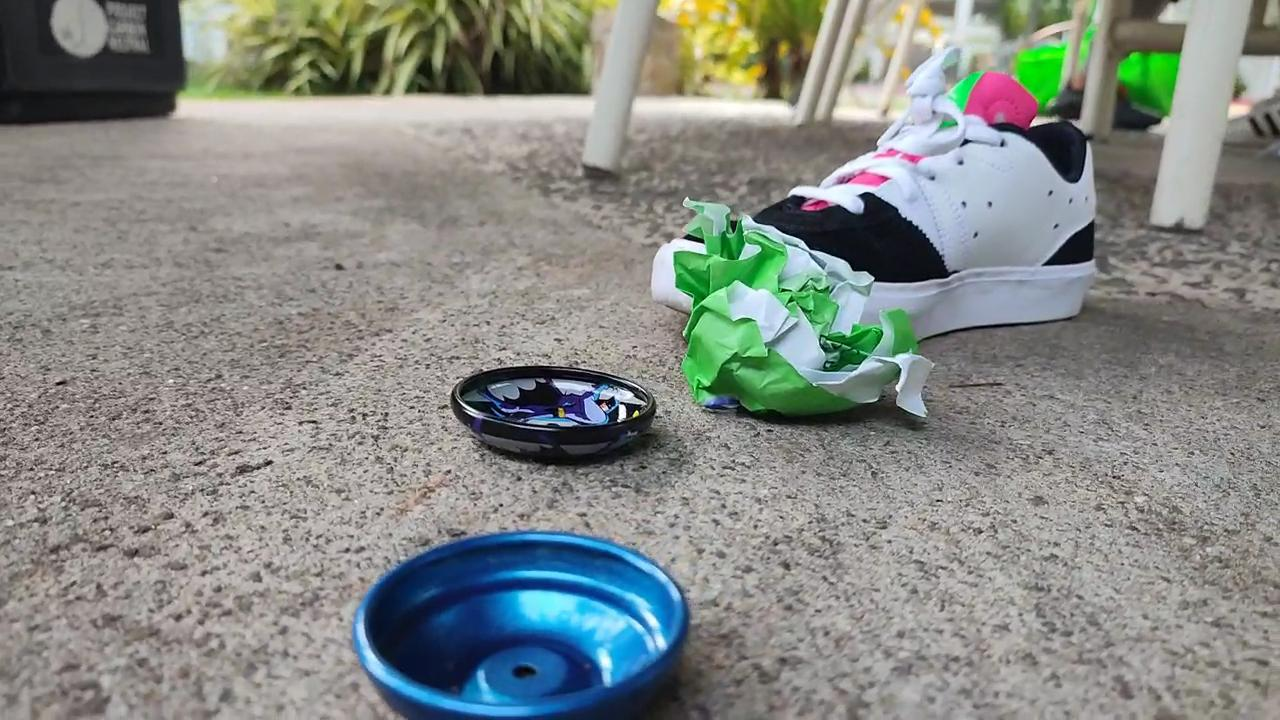Paper: (669, 188, 936, 435)
